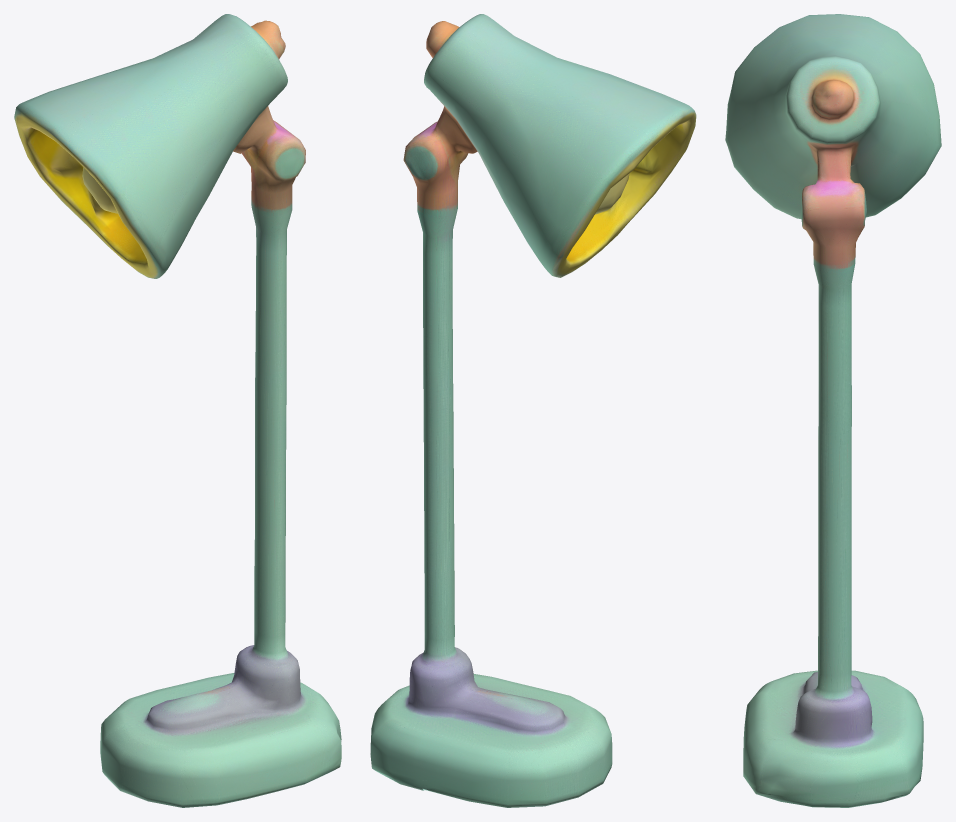
Rendered from lamp_desk_mint.glb.
3 renders of one model, left to right at view 1: azimuth 30°, elevation 25°; view 2: azimuth 150°, elevation 25°; view 3: azimuth 270°, elevation 25°, orthographic. The views are drawn at different scales.
Size of the model in its own units: 0.8176 by 2 by 0.5519.
1 material, 1 textured.
